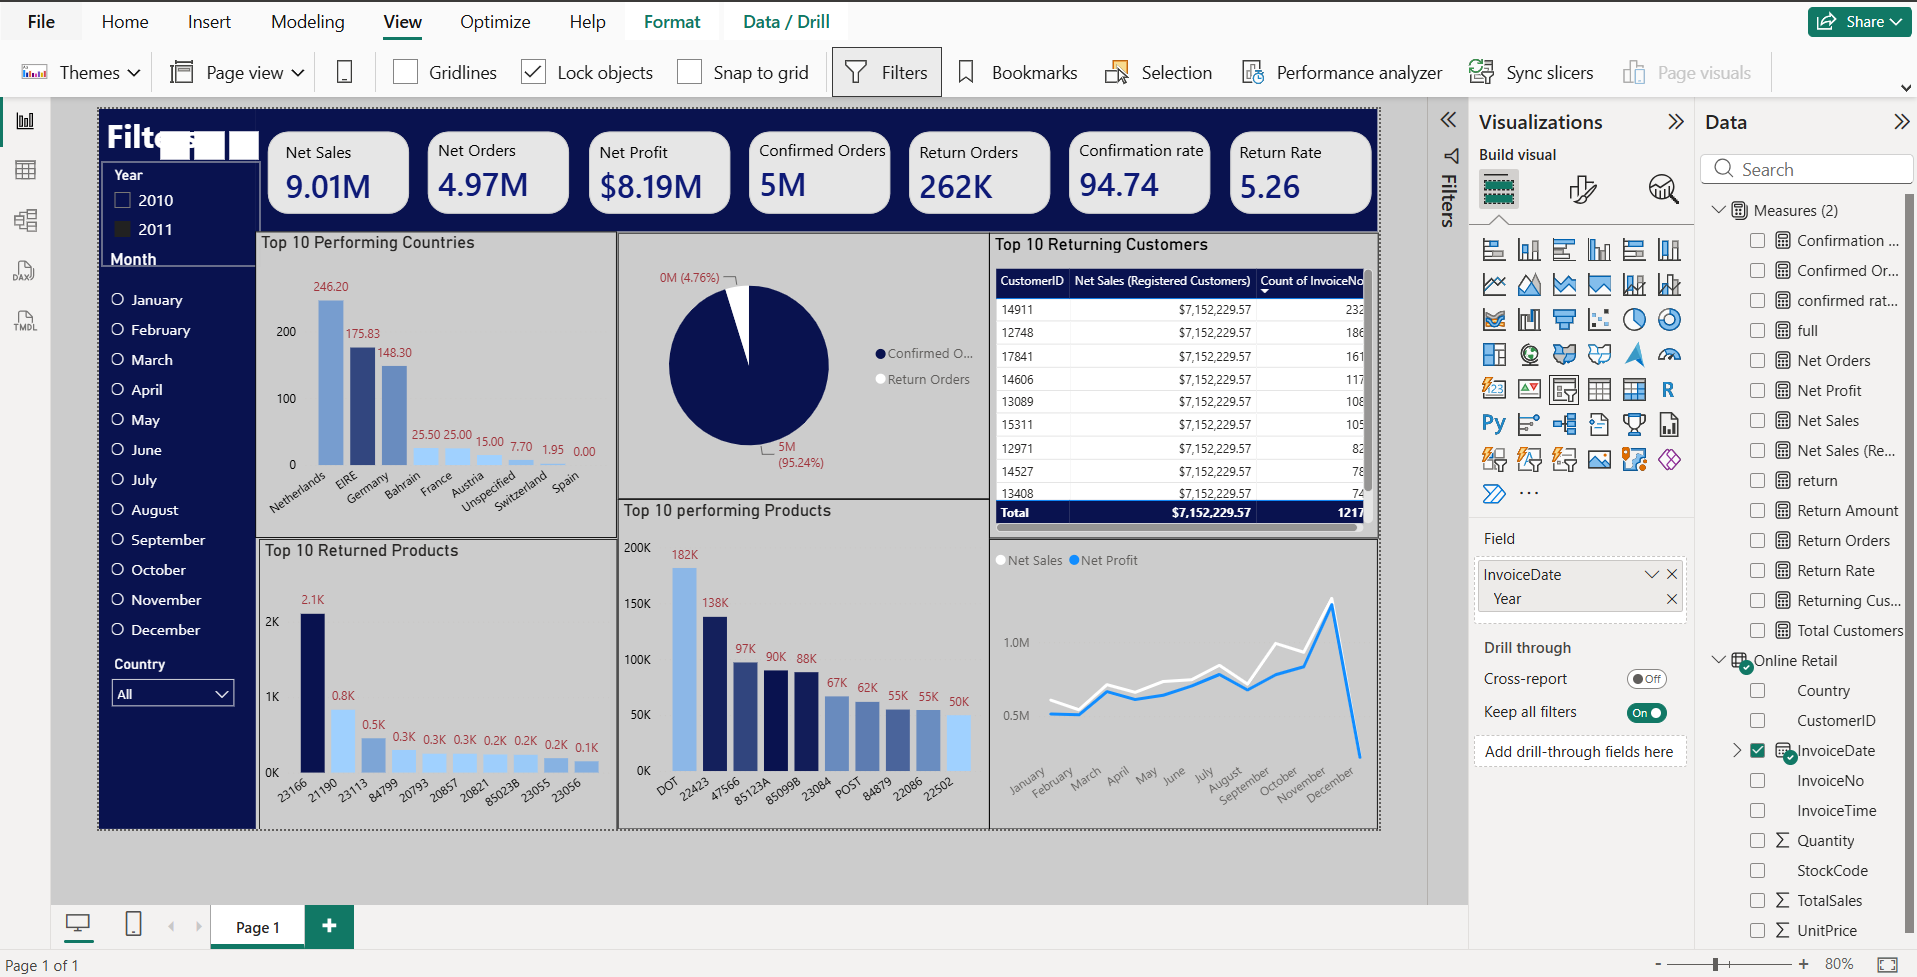

The dashboard page shown, as its layout file describes it:
{"tool":"powerbi","page":{"name":"Page 1","canvas":[1280,720],"ordinal":0},"visuals":[{"type":"shape","box":[0,0,156.8,719.9],"z":0},{"type":"shape","box":[156.8,0,1122.1,122.7],"z":1000},{"type":"barChart","fields":{"Category":["Online Retail.CustomerID"]},"box":[158.6,471.5,541.3,249.5],"z":2000},{"type":"slicer","fields":{"Values":["Online Retail.Country"]},"box":[2.3,540.7,143,179.1],"z":3000},{"type":"slicer","fields":{"Values":["Online Retail.InvoiceDate.Variation.Date Hierarchy.Year"]},"box":[2.8,52.4,157.8,105.7],"z":4000},{"type":"lineChart","title":"Net Sales and Net Profit Trend","fields":{"Category":["Online Retail.InvoiceDate.Variation.Date Hierarchy.Year","Online Retail.InvoiceDate.Variation.Date Hierarchy.Quarter","Online Retail.InvoiceDate.Variation.Date Hierarchy.Month","Online Retail.InvoiceDate.Variation.Date Hierarchy.Day"],"Y":["Measures (2).Net Sales","Measures (2).Net Profit"]},"box":[890.3,429.5,388.6,290.4],"z":5000},{"type":"shape","box":[168.8,23.1,141.3,82.3],"z":6000},{"type":"shape","box":[329.1,23.1,141.3,82.3],"z":7000},{"type":"shape","box":[489.5,23.1,141.3,82.3],"z":8000},{"type":"shape","box":[649.9,23.1,141.3,82.3],"z":9000},{"type":"shape","box":[810.2,23.1,141.3,82.3],"z":10000},{"type":"shape","box":[970.6,23.1,141.3,82.3],"z":11000},{"type":"shape","box":[1131,23.1,141.3,82.3],"z":12000},{"type":"cardVisual","fields":{"Data":["Measures (2).Net Sales"]},"box":[157.8,12,227.8,104.3],"z":13000},{"type":"cardVisual","fields":{"Data":["Measures (2).Net Orders"]},"box":[310.1,9.6,227.8,104.3],"z":14000},{"type":"cardVisual","fields":{"Data":["Measures (2).Confirmed Orders"]},"box":[631.2,9.6,196.2,104.3],"z":15000},{"type":"cardVisual","fields":{"Data":["Measures (2).Return Orders"]},"box":[791.8,12.3,196.2,104.3],"z":16000},{"type":"cardVisual","fields":{"Data":["Measures (2).Return Rate"]},"box":[1111.5,12,160.5,104.3],"z":17000},{"type":"cardVisual","fields":{"Data":["Measures (2).Net Profit"]},"box":[470.7,12.3,227.8,104.3],"z":18000},{"type":"cardVisual","fields":{"Data":["Measures (2).Confirmation rate"]},"box":[950.9,9.6,196.2,104.3],"z":19000},{"type":"listSlicer","fields":{"Values":["Online Retail.InvoiceDate.Variation.Date Hierarchy.Month"]},"box":[5.8,139.5,132.6,401.2],"z":20000},{"type":"clusteredColumnChart","title":"Top 10 Returned Products","fields":{"Category":["Online Retail.StockCode"],"Y":["Measures (2).Return Rate"]},"box":[159.5,429.5,358.6,291.8],"z":21000},{"type":"columnChart","title":"Top 10 performing Products","fields":{"Category":["Online Retail.StockCode"],"Y":["Measures (2).Net Sales"]},"box":[518.6,389.5,372.1,330.2],"z":22000},{"type":"tableEx","title":"Top 10 Returning Customers","fields":{"Values":["Online Retail.CustomerID","Measures (2).Net Sales (Registered Customers)","Online Retail.InvoiceNo"]},"box":[890.3,124.1,389.9,305.4],"z":23000},{"type":"textbox","box":[2.8,0,140.2,65.1],"z":24000},{"type":"pieChart","fields":{"Y":["Measures (2).Confirmed Orders","Measures (2).Return Orders"]},"box":[518.6,123.3,372.1,266.3],"z":25000},{"type":"clusteredColumnChart","title":"Top 10 Performing Countries","fields":{"Category":["Online Retail.Country"],"Y":["Measures (2).Net Sales"]},"box":[156.8,122.7,361.3,306.8],"z":26000}]}

Visuals, with their boxes on the page's 1280x720 design canvas (x1, y1, x2, y2). These are canvas units, not pixel positions in the 1917x977 screenshot, which may show the page scaled, cropped or inside an application window:
shape: [left=0, top=0, right=157, bottom=720]
shape: [left=157, top=0, right=1279, bottom=123]
barChart - Online Retail.CustomerID: [left=159, top=472, right=700, bottom=721]
slicer - Online Retail.Country: [left=2, top=541, right=145, bottom=720]
slicer - Online Retail.InvoiceDate.Variation.Date Hierarchy.Year: [left=3, top=52, right=161, bottom=158]
"Net Sales and Net Profit Trend" lineChart: [left=890, top=430, right=1279, bottom=720]
shape: [left=169, top=23, right=310, bottom=105]
shape: [left=329, top=23, right=470, bottom=105]
shape: [left=490, top=23, right=631, bottom=105]
shape: [left=650, top=23, right=791, bottom=105]
shape: [left=810, top=23, right=952, bottom=105]
shape: [left=971, top=23, right=1112, bottom=105]
shape: [left=1131, top=23, right=1272, bottom=105]
cardVisual - Measures (2).Net Sales: [left=158, top=12, right=386, bottom=116]
cardVisual - Measures (2).Net Orders: [left=310, top=10, right=538, bottom=114]
cardVisual - Measures (2).Confirmed Orders: [left=631, top=10, right=827, bottom=114]
cardVisual - Measures (2).Return Orders: [left=792, top=12, right=988, bottom=117]
cardVisual - Measures (2).Return Rate: [left=1112, top=12, right=1272, bottom=116]
cardVisual - Measures (2).Net Profit: [left=471, top=12, right=698, bottom=117]
cardVisual - Measures (2).Confirmation rate: [left=951, top=10, right=1147, bottom=114]
listSlicer - Online Retail.InvoiceDate.Variation.Date Hierarchy.Month: [left=6, top=140, right=138, bottom=541]
"Top 10 Returned Products" clusteredColumnChart: [left=160, top=430, right=518, bottom=721]
"Top 10 performing Products" columnChart: [left=519, top=390, right=891, bottom=720]
"Top 10 Returning Customers" tableEx: [left=890, top=124, right=1280, bottom=430]
textbox: [left=3, top=0, right=143, bottom=65]
pieChart - Measures (2).Confirmed Orders x Measures (2).Return Orders: [left=519, top=123, right=891, bottom=390]
"Top 10 Performing Countries" clusteredColumnChart: [left=157, top=123, right=518, bottom=430]
